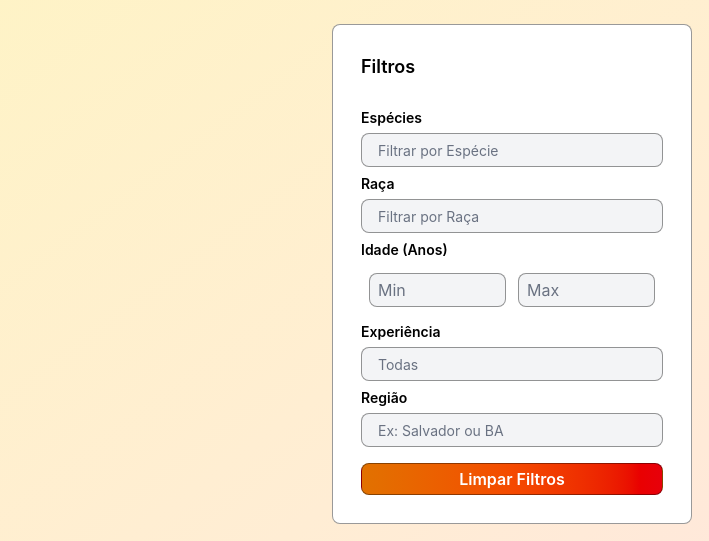
Test: clicking species input opens species dropdown
The image size is (709, 541).
Click the field with placeholder "Filtrar por Espécie" at coordinates (516, 150), box [378, 138, 654, 162]
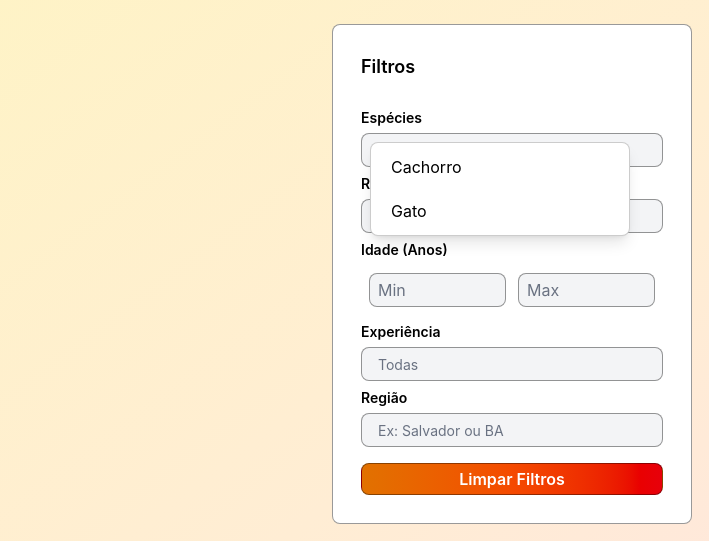
Expected: the text "Cachorro" is shown, [391, 157, 462, 177]
Expected: the text "Gato" is shown, [391, 201, 427, 221]
